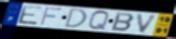B: (111, 12, 136, 32)
D: (63, 8, 88, 29)
E: (18, 4, 44, 26)
F: (39, 6, 65, 26)
Q: (87, 10, 111, 31)
V: (136, 13, 160, 34)
